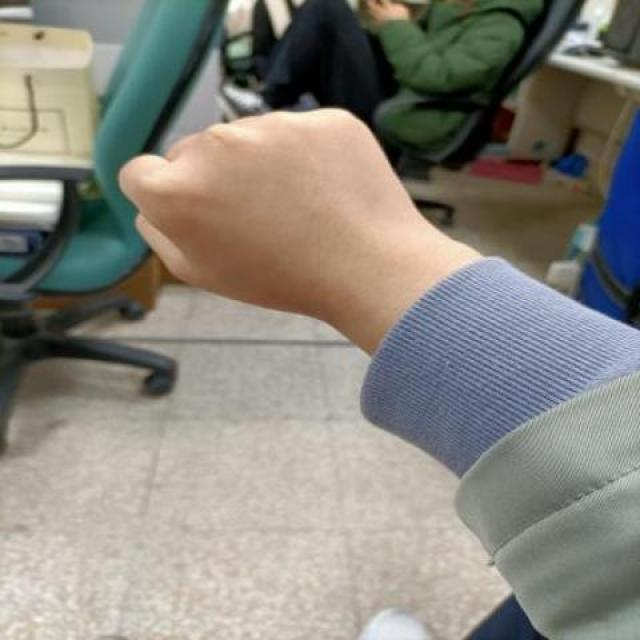Closed Hand: (84, 103, 444, 322)
